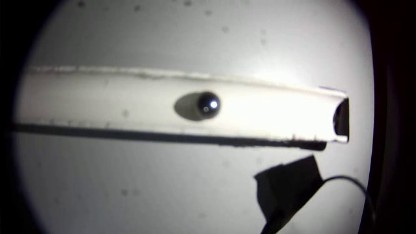gangzhu: (195, 91, 220, 117)
